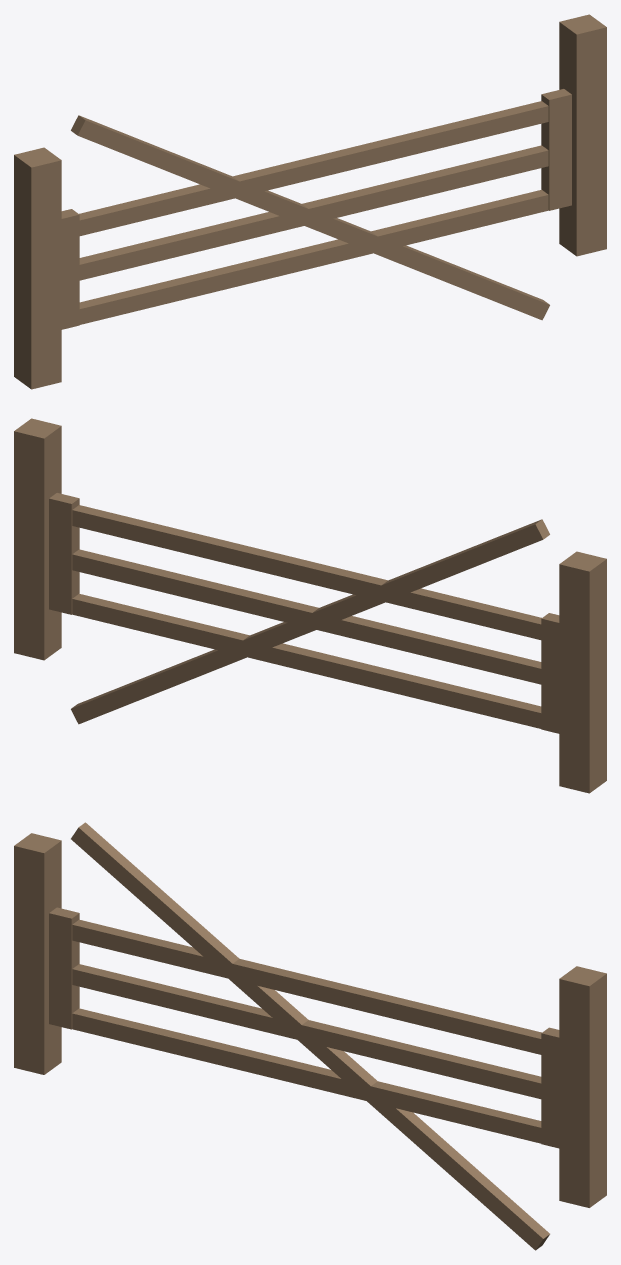
File: gate.glb
3 renders of one model, top to bottom at view 1: azimuth 30°, elevation 25°; view 2: azimuth 150°, elevation 25°; view 3: azimuth 330°, elevation 25°, orthographic.
Visible parts, largest first — view 1: gate; view 2: gate; view 3: gate.
Boxes of the visible parts, x1=… form: gate: x1=14, y1=14, x2=606, y2=389; gate: x1=14, y1=418, x2=606, y2=793; gate: x1=14, y1=822, x2=606, y2=1250.
Bounding box in the file's own units: 3.8 × 1.97 × 0.1999.
